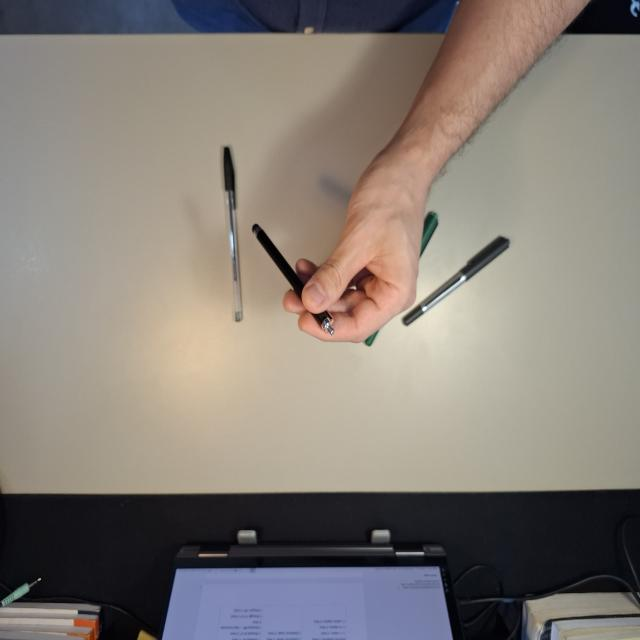glove_off: (280, 152, 440, 346)
